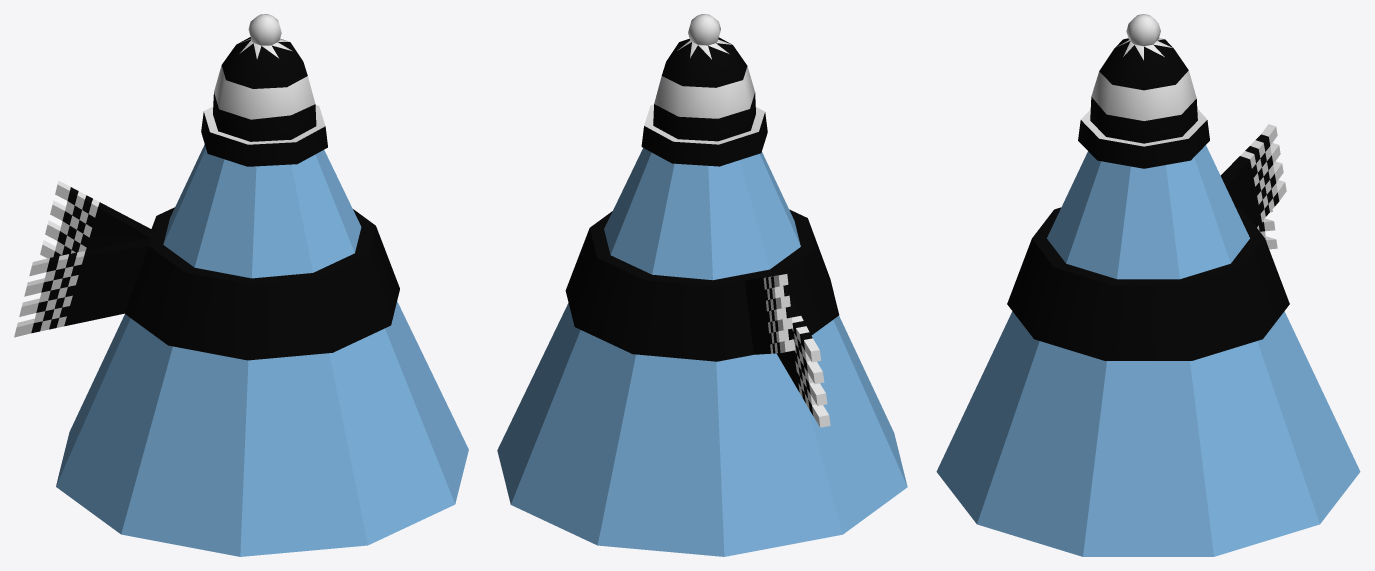
The model's file is Scarf_Hat_Villager.fbx.
The picture shows the model from 3 angles, left to right: view 1: azimuth 30°, elevation 25°; view 2: azimuth 150°, elevation 25°; view 3: azimuth 270°, elevation 25°; orthographic projection.
Parts seen in each view (by area): view 1: Scarf_Hat_Villager, Scarf4, Hat3; view 2: Scarf_Hat_Villager, Scarf4, Hat3; view 3: Scarf_Hat_Villager, Scarf4, Hat3.
Part boxes in pixels (x1,y1,x2,y2): Scarf_Hat_Villager: (56, 144, 468, 556); Scarf4: (14, 180, 399, 360); Hat3: (201, 14, 327, 166); Scarf_Hat_Villager: (497, 148, 907, 556); Scarf4: (565, 209, 839, 427); Hat3: (641, 14, 767, 166); Scarf_Hat_Villager: (936, 145, 1360, 556); Scarf4: (1007, 124, 1289, 360); Hat3: (1078, 14, 1209, 168).
Size of the model in its own units: 6.05 by 7.24 by 6.1.
